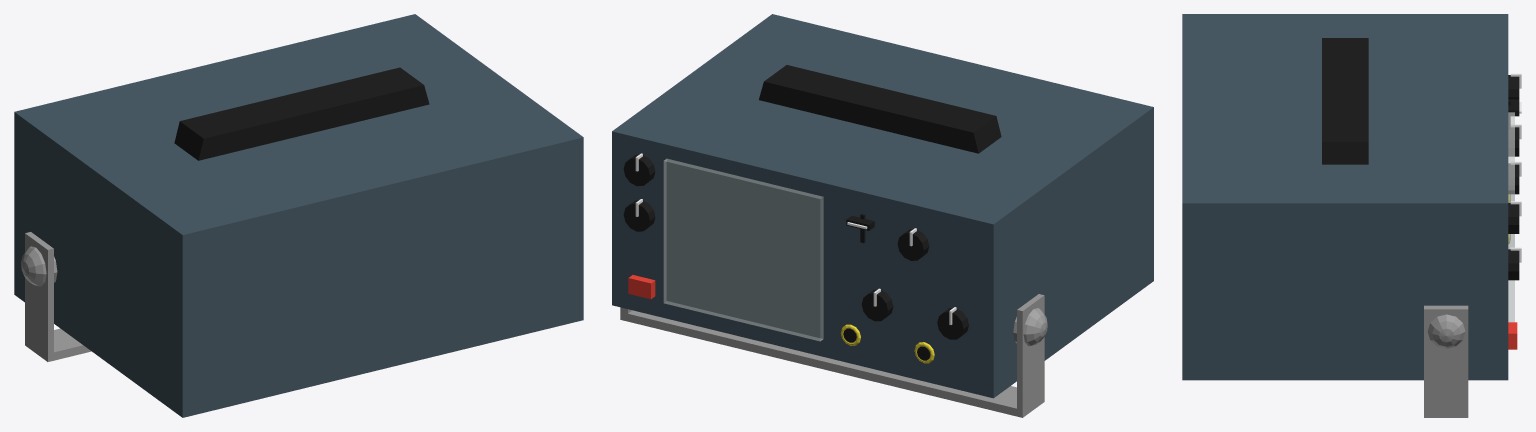
File: fVPf93M0i_x.glb
3 renders of one model, left to right at view 1: azimuth 30°, elevation 25°; view 2: azimuth 150°, elevation 25°; view 3: azimuth 270°, elevation 25°, orthographic. The views are drawn at different scales.
Parts seen in each view (by area): view 1: group1206346070, group1614062453, group904415895, group895526453, group1068289800; view 2: group1206346070, group1194422086, group1614062453, group1068289800, group904415895, group895526453, group84421629, group717484583, group323120931, group530683298, group1552930871, group320037650; view 3: group1206346070, group1614062453, group926282457, group1194422086, group1316495928, group323120931, group717484583, group530683298, group84421629.
Boxes of the visible parts, bbox=[...] form: group1206346070: bbox=[14, 14, 583, 417]; group1614062453: bbox=[174, 67, 429, 160]; group904415895: bbox=[25, 232, 53, 361]; group895526453: bbox=[21, 246, 57, 286]; group1068289800: bbox=[54, 328, 91, 360]; group1206346070: bbox=[612, 14, 1153, 398]; group1194422086: bbox=[663, 159, 823, 341]; group1614062453: bbox=[759, 65, 1001, 153]; group1068289800: bbox=[628, 310, 1016, 416]; group904415895: bbox=[1017, 294, 1044, 417]; group895526453: bbox=[1013, 308, 1047, 346]; group84421629: bbox=[937, 308, 968, 339]; group717484583: bbox=[623, 154, 655, 186]; group323120931: bbox=[623, 200, 655, 231]; group530683298: bbox=[861, 290, 893, 321]; group1552930871: bbox=[897, 229, 929, 260]; group320037650: bbox=[628, 275, 655, 299]; group1206346070: bbox=[1182, 14, 1508, 380]; group1614062453: bbox=[1322, 38, 1368, 164]; group926282457: bbox=[1424, 305, 1468, 417]; group1194422086: bbox=[1508, 112, 1514, 322]; group1316495928: bbox=[1427, 314, 1465, 348]; group323120931: bbox=[1508, 249, 1519, 280]; group717484583: bbox=[1508, 203, 1519, 233]; group530683298: bbox=[1508, 163, 1519, 194]; group84421629: bbox=[1508, 127, 1519, 156].
Bounding box in the file's own units: 2.24 × 1.14 × 1.53.
